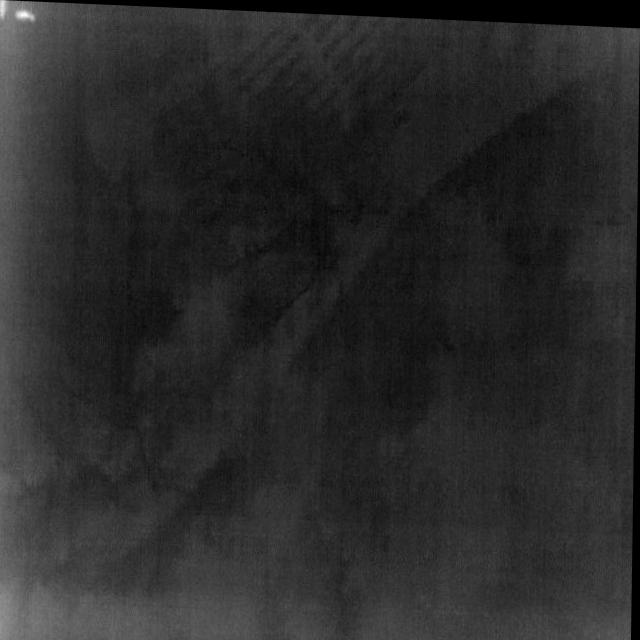deer: (14, 8, 36, 23), (0, 0, 10, 19)
